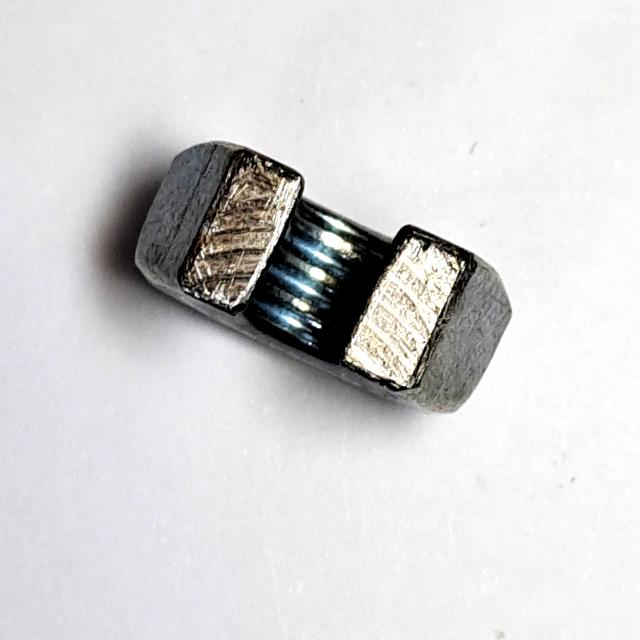Side-Fracture: (123, 126, 519, 432)
